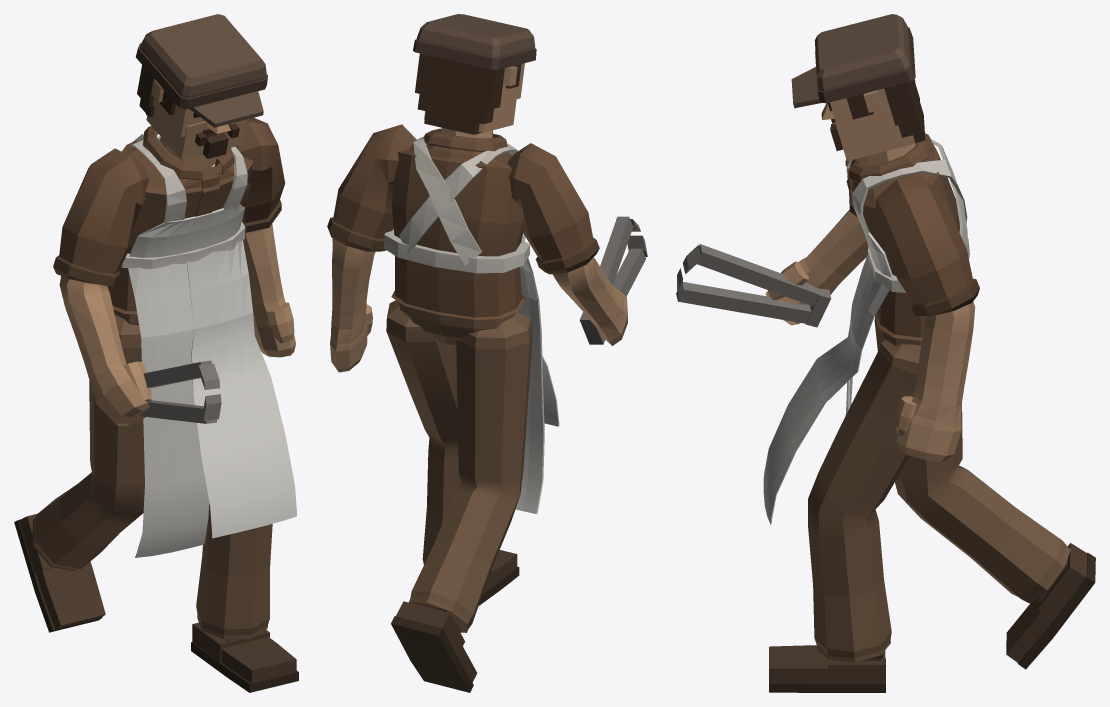
File: street-vendor-139de3__walk1.glb
3 renders of one model, left to right at view 1: azimuth 30°, elevation 25°; view 2: azimuth 150°, elevation 25°; view 3: azimuth 270°, elevation 25°, orthographic. The views are drawn at different scales.
Parts seen in each view (by area): view 1: street-vendor-139de3__walk1; view 2: street-vendor-139de3__walk1; view 3: street-vendor-139de3__walk1.
Boxes of the visible parts, x1,y1,x2,y2 form: street-vendor-139de3__walk1: [14, 14, 298, 692]; street-vendor-139de3__walk1: [327, 14, 647, 692]; street-vendor-139de3__walk1: [676, 14, 1095, 692].
Bounding box in the file's own units: 0.7094 × 1.72 × 1.01.
